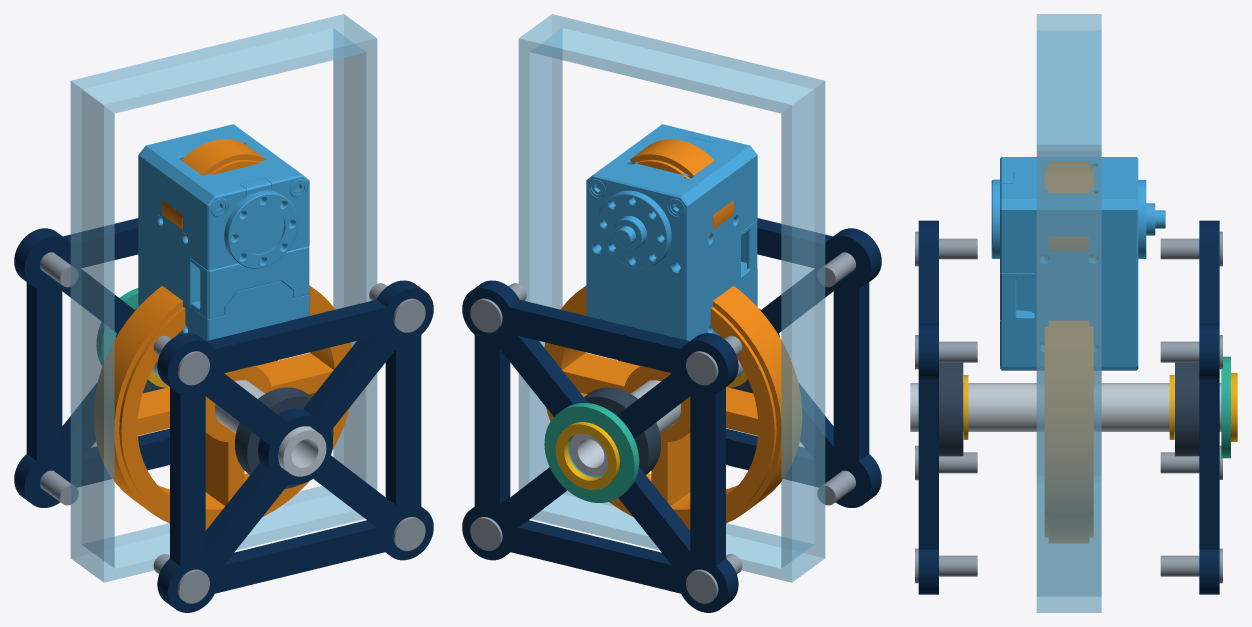
File: JMF-10-ANKLE-PITCH-REDUCED-25_assembly.glb
The picture shows the model from 3 angles, left to right: view 1: azimuth 30°, elevation 25°; view 2: azimuth 150°, elevation 25°; view 3: azimuth 270°, elevation 25°; orthographic projection. The views are drawn at different scales.
Visible parts, largest first — view 1: TRANSMISSION_GUARD, CARRIER_A, ACTUATOR, CARRIER_B, OUTPUT_PULLEY, TIMING_BELT, OUTPUT_SHAFT, BEARING_A, CARRIER_A_SCREW_22, CARRIER_A_SCREW_21, CARRIER_A_SCREW_12, CARRIER_A_SCREW_11 (+3 smaller); view 2: TRANSMISSION_GUARD, CARRIER_B, ACTUATOR, CARRIER_A, OUTPUT_PULLEY, TIMING_BELT, OUTPUT_ENCODER_CARRIER, OUTPUT_MAGNET_HUB, OUTPUT_SHAFT, BEARING_B, CARRIER_B_SCREW_22, CARRIER_B_SCREW_21 (+4 smaller); view 3: TRANSMISSION_GUARD, ACTUATOR, TIMING_BELT, OUTPUT_SHAFT, CARRIER_B, CARRIER_A, BEARING_A, BEARING_B, OUTPUT_PULLEY, CARRIER_B_SCREW_11, CARRIER_B_SCREW_22, CARRIER_B_SCREW_12 (+7 smaller).
Boxes of the visible parts, x1,y1,x2,y2 form: TRANSMISSION_GUARD: [70, 14, 377, 582]; CARRIER_A: [157, 280, 433, 612]; ACTUATOR: [138, 124, 309, 340]; CARRIER_B: [14, 218, 277, 507]; OUTPUT_PULLEY: [119, 292, 348, 526]; TIMING_BELT: [94, 139, 351, 530]; OUTPUT_SHAFT: [152, 360, 326, 476]; BEARING_A: [235, 387, 333, 488]; CARRIER_A_SCREW_22: [153, 335, 209, 385]; CARRIER_A_SCREW_21: [153, 554, 209, 603]; CARRIER_A_SCREW_12: [369, 283, 425, 332]; CARRIER_A_SCREW_11: [393, 517, 425, 550]; TRANSMISSION_GUARD: [518, 14, 825, 582]; CARRIER_B: [462, 280, 738, 612]; ACTUATOR: [586, 124, 757, 340]; CARRIER_A: [618, 218, 881, 507]; OUTPUT_PULLEY: [547, 293, 776, 526]; TIMING_BELT: [544, 139, 801, 530]; OUTPUT_ENCODER_CARRIER: [544, 403, 639, 502]; OUTPUT_MAGNET_HUB: [555, 422, 619, 489]; OUTPUT_SHAFT: [569, 360, 743, 476]; BEARING_B: [584, 387, 660, 474]; CARRIER_B_SCREW_22: [686, 335, 742, 385]; CARRIER_B_SCREW_21: [686, 554, 742, 603]; TRANSMISSION_GUARD: [1036, 14, 1101, 612]; ACTUATOR: [991, 157, 1165, 370]; TIMING_BELT: [1049, 161, 1088, 542]; OUTPUT_SHAFT: [910, 383, 1221, 431]; CARRIER_B: [1199, 220, 1219, 594]; CARRIER_A: [918, 220, 938, 594]; BEARING_A: [939, 362, 963, 456]; BEARING_B: [1175, 362, 1199, 456]; OUTPUT_PULLEY: [1045, 327, 1093, 537]; CARRIER_B_SCREW_11: [1160, 548, 1222, 583]; CARRIER_B_SCREW_22: [1160, 231, 1222, 266]; CARRIER_B_SCREW_12: [1160, 335, 1222, 369].
Bounding box in the file's own units: 76 × 127 × 80.4.
